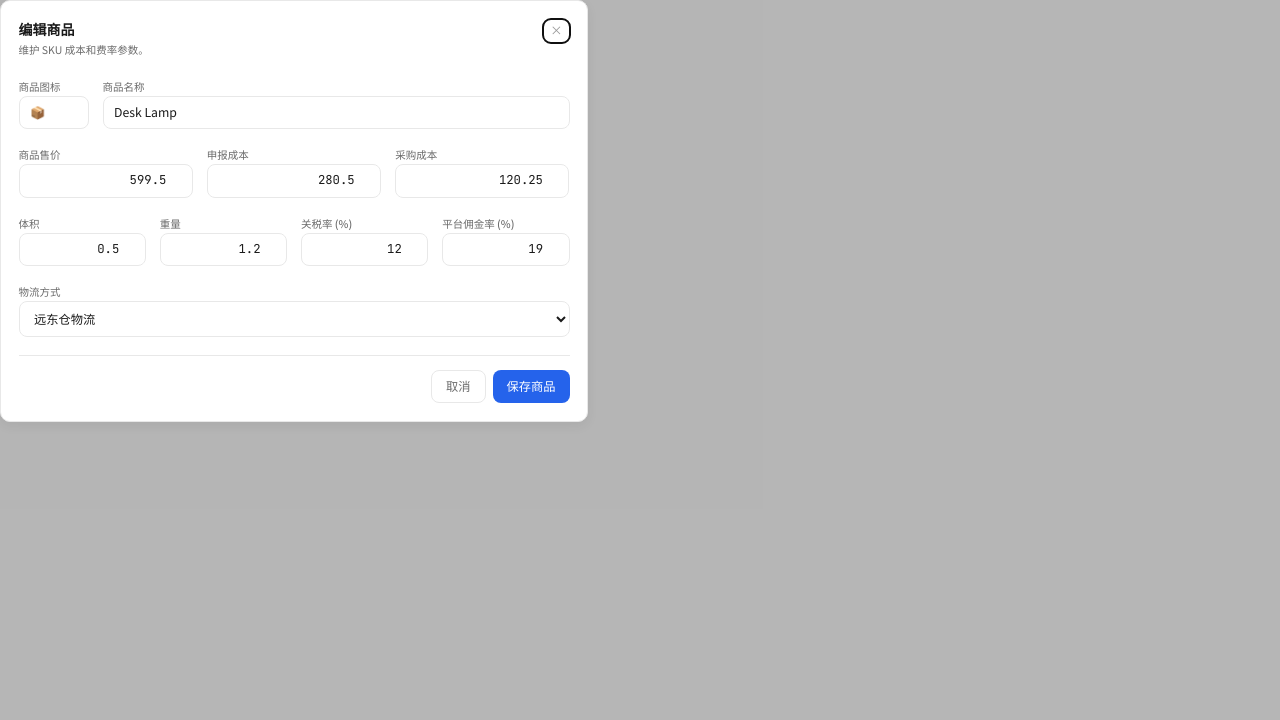
Scenario: ProductFormModal › blocks submission when validation fails
Clear the field labelled "商品名称" at x=336, y=112, box [102,96,570,129]
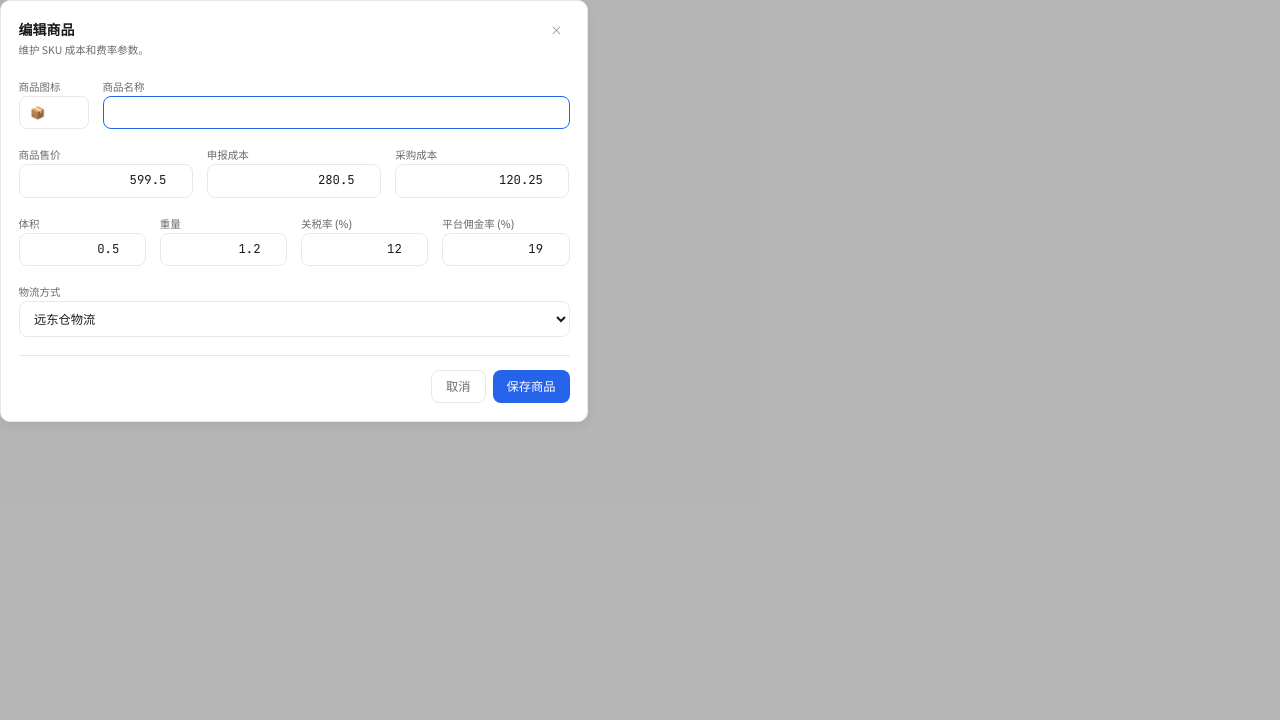
Click the button "保存商品" at x=531, y=386, box [492,370,570,403]
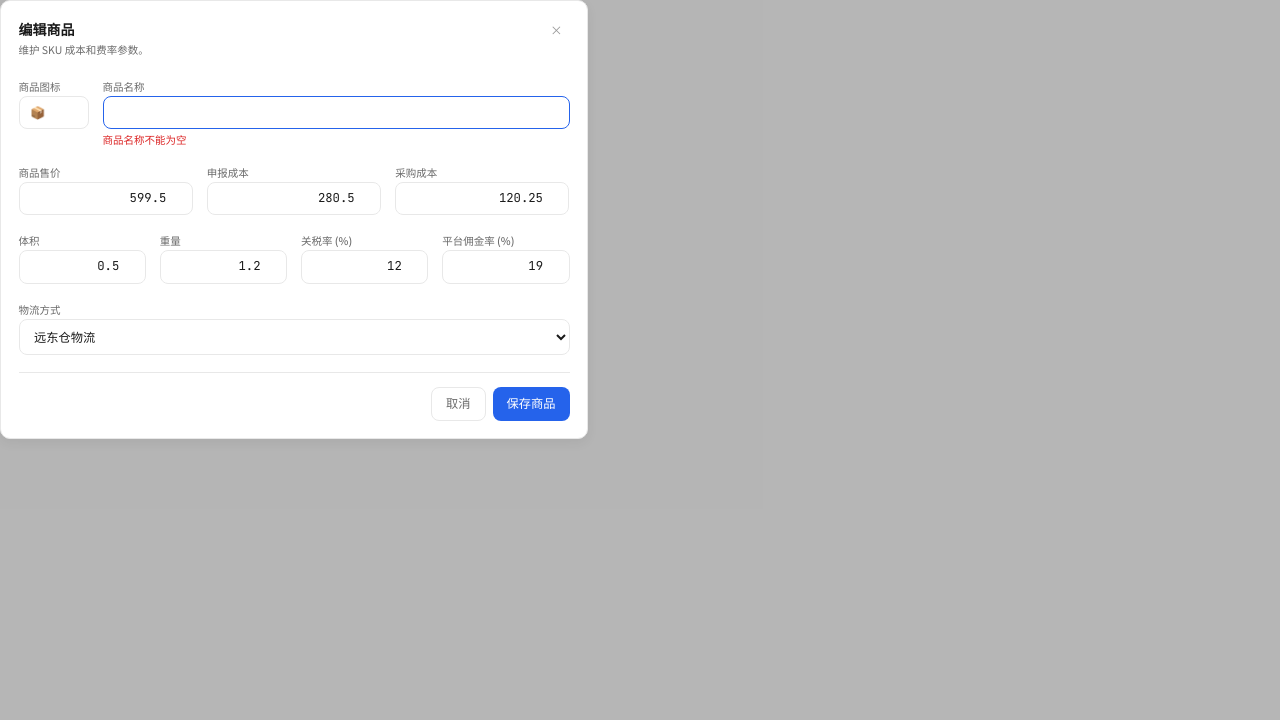
expect the text "商品名称不能为空" is shown: met, box [102,132,186,146]
